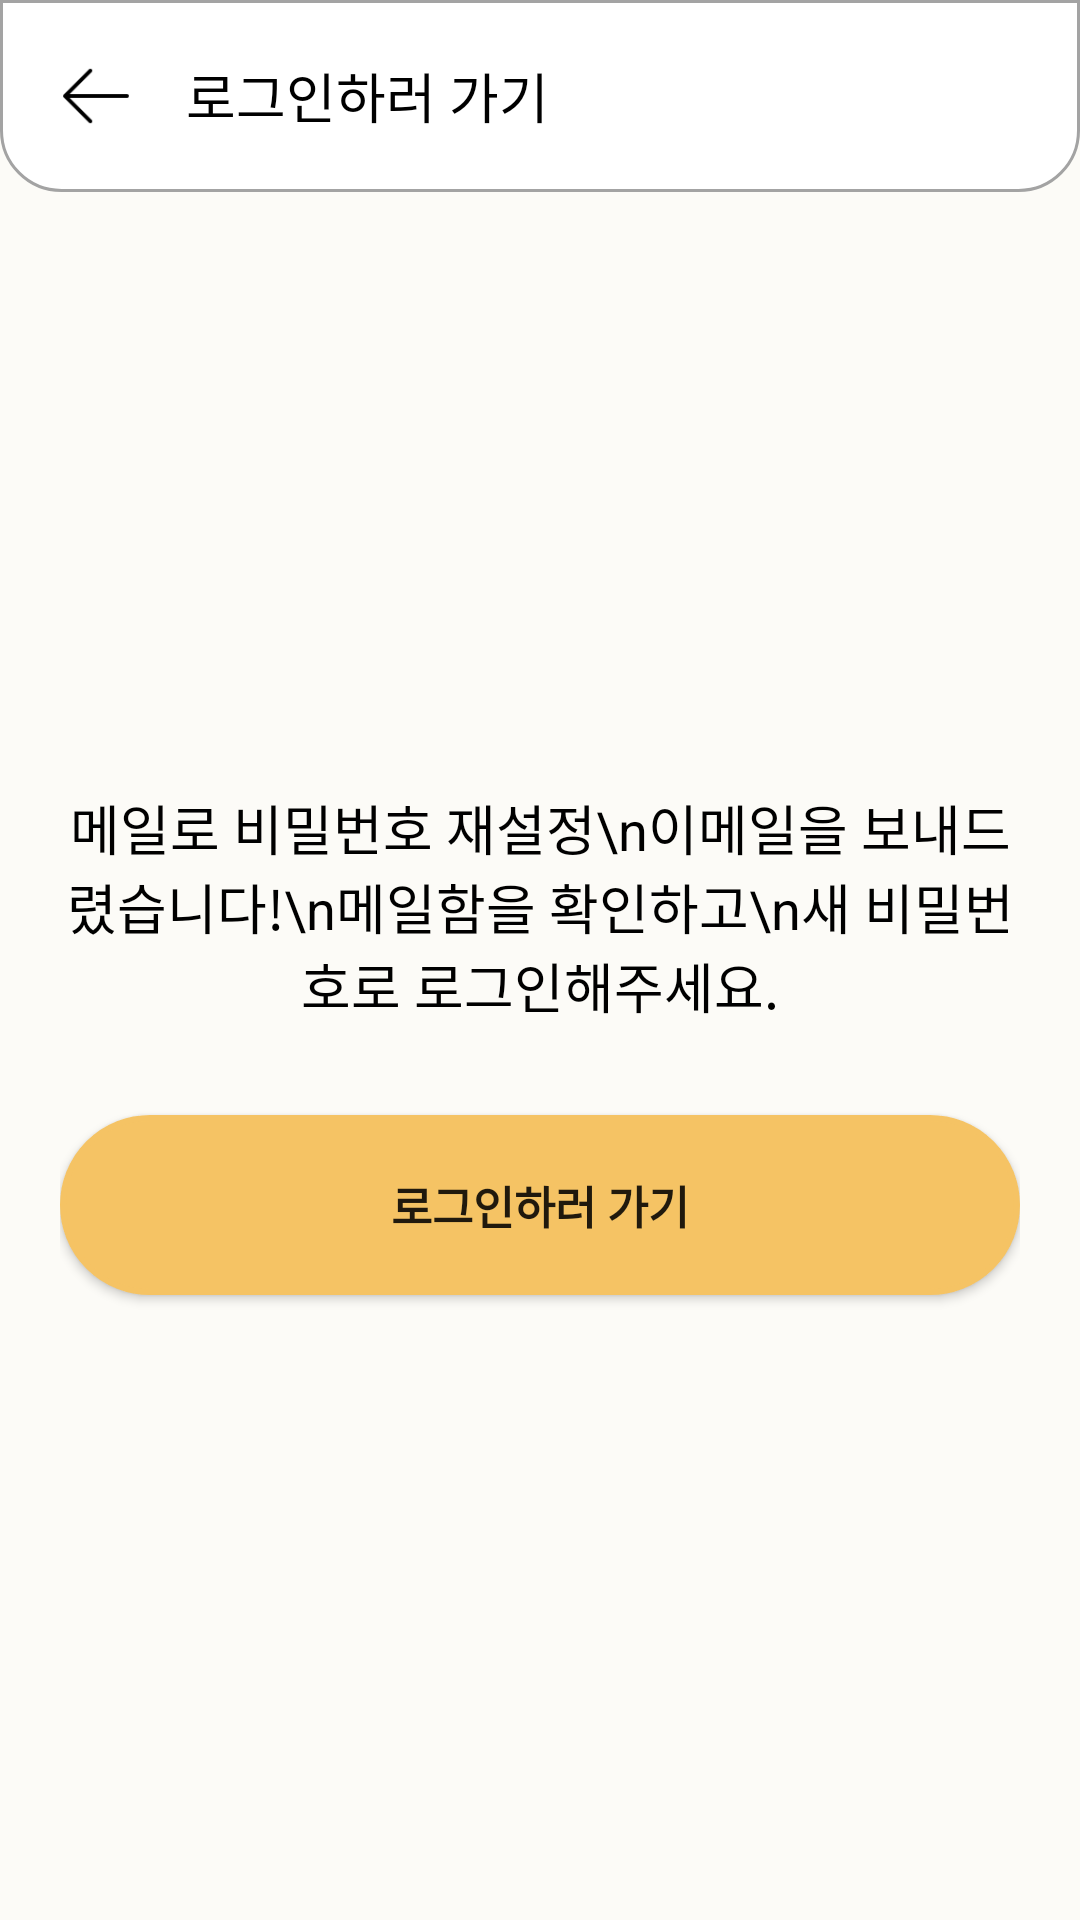

Screen size 1080 × 1920. Icon name, then its box in pixels as box(x1, y1, x2, y2):
back: box(63, 68, 129, 124)
